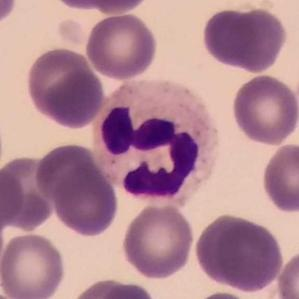Neutrophil: (92, 71, 223, 211)
RBC: (192, 212, 286, 294), (24, 46, 106, 131), (119, 201, 196, 281), (50, 161, 121, 239), (210, 4, 288, 74), (84, 11, 160, 82), (229, 72, 299, 148), (0, 153, 61, 231), (0, 231, 68, 299), (34, 141, 98, 203), (259, 140, 299, 216), (68, 276, 158, 299), (0, 166, 27, 232), (51, 0, 159, 15), (274, 246, 299, 299), (189, 289, 258, 299), (0, 0, 20, 29), (0, 207, 6, 280)
